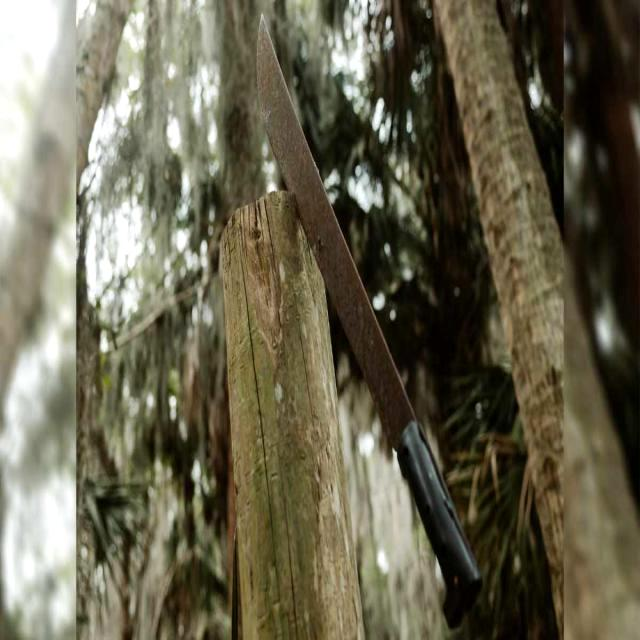long knife: (251, 10, 489, 622)
